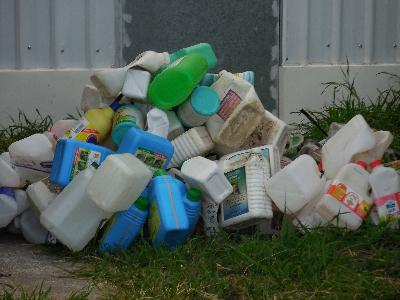bottle: (317, 161, 374, 232), (179, 154, 234, 205), (368, 158, 400, 230), (177, 86, 221, 128)
bucket: (39, 157, 116, 256), (85, 151, 150, 218), (219, 150, 273, 229), (264, 151, 326, 217)
